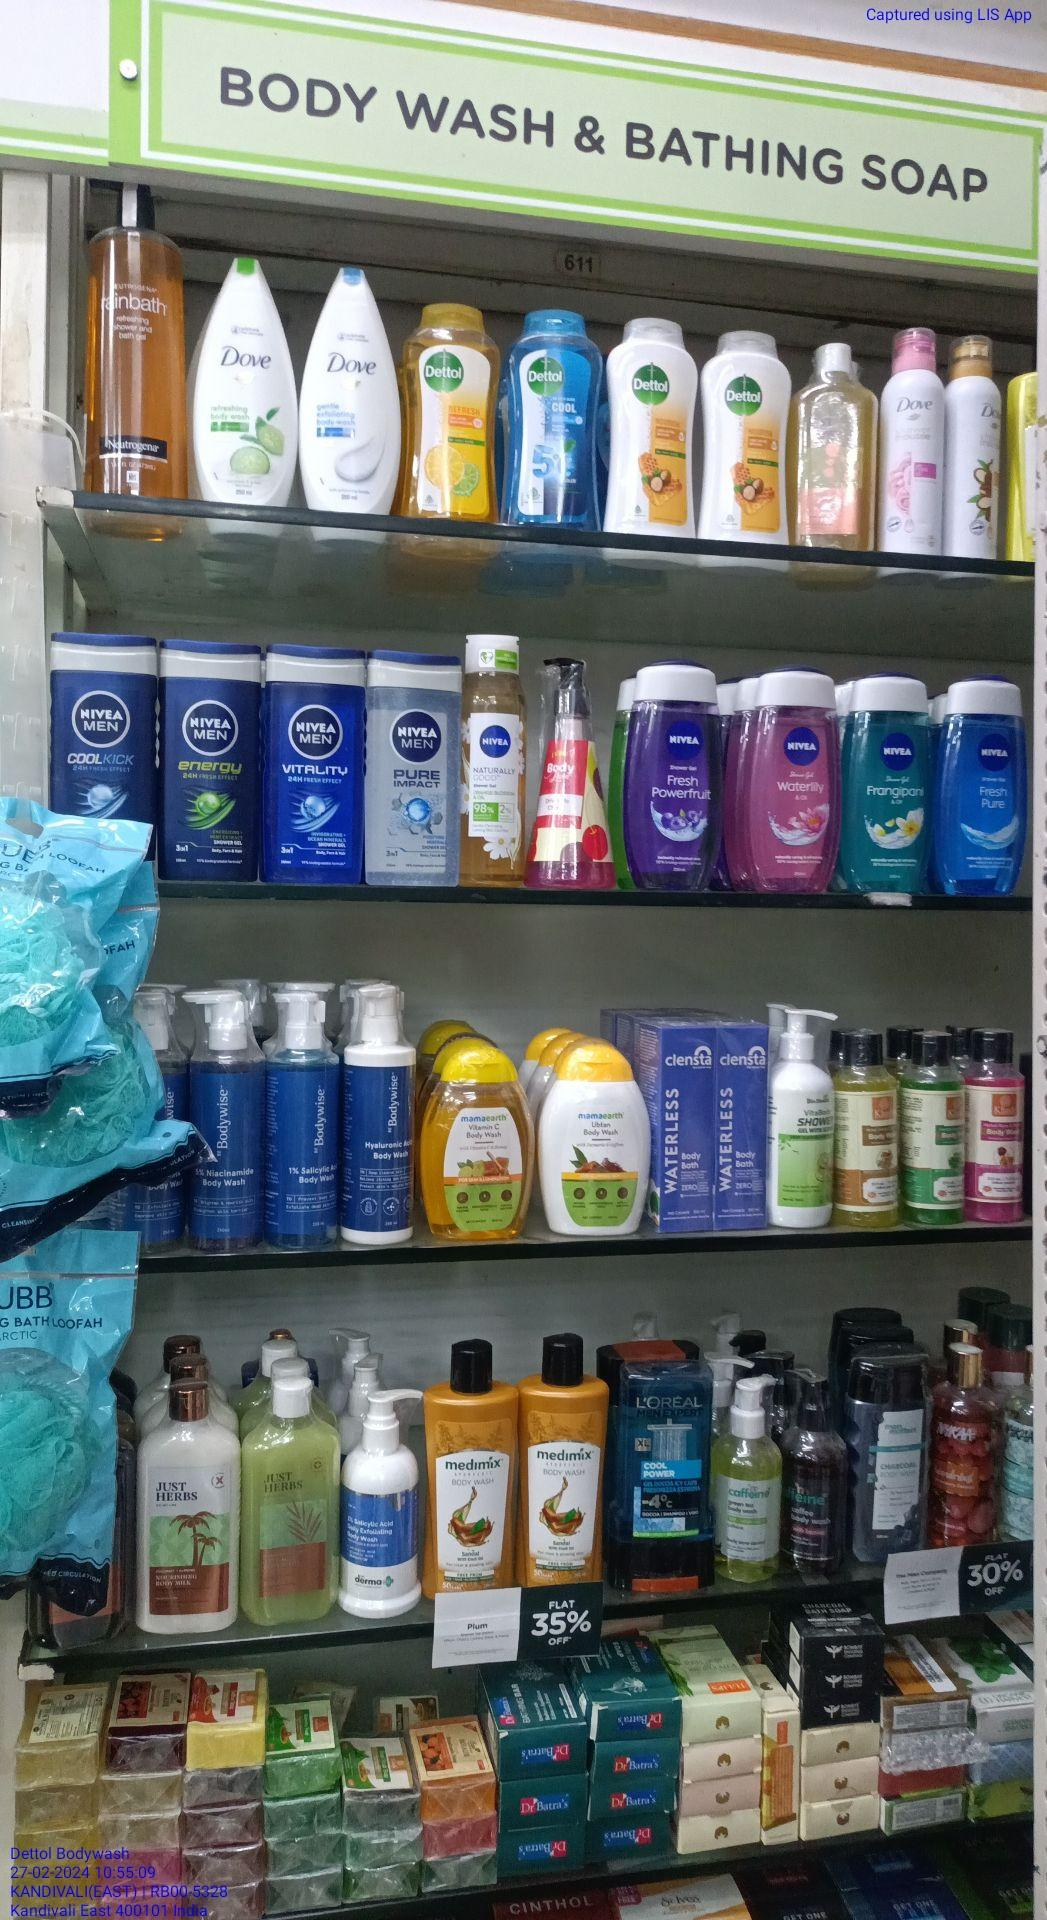Dettol_Bodywash_Cool: (504, 307, 602, 531)
Dettol_Bodywash_Refresh: (406, 300, 496, 520)
Dettol_Nourish_Body_Wash_250ML: (609, 316, 700, 538), (705, 331, 789, 535)
Dove_Gentle_Exfoliating_Body_Wash_250ML: (302, 266, 401, 514)
Dove_Refreshing_Body_Wash_250ML: (193, 253, 295, 508)
Nivea_Shower_Gel_Frangipani_and_Oil_250ML: (847, 668, 934, 908)
Nivea_Shower_Gel_Fresh_Powerfruit_250ML: (624, 658, 723, 890)
Nivea_Shower_Gel_Waterlily_and_Oil_250ML: (736, 669, 838, 896)
